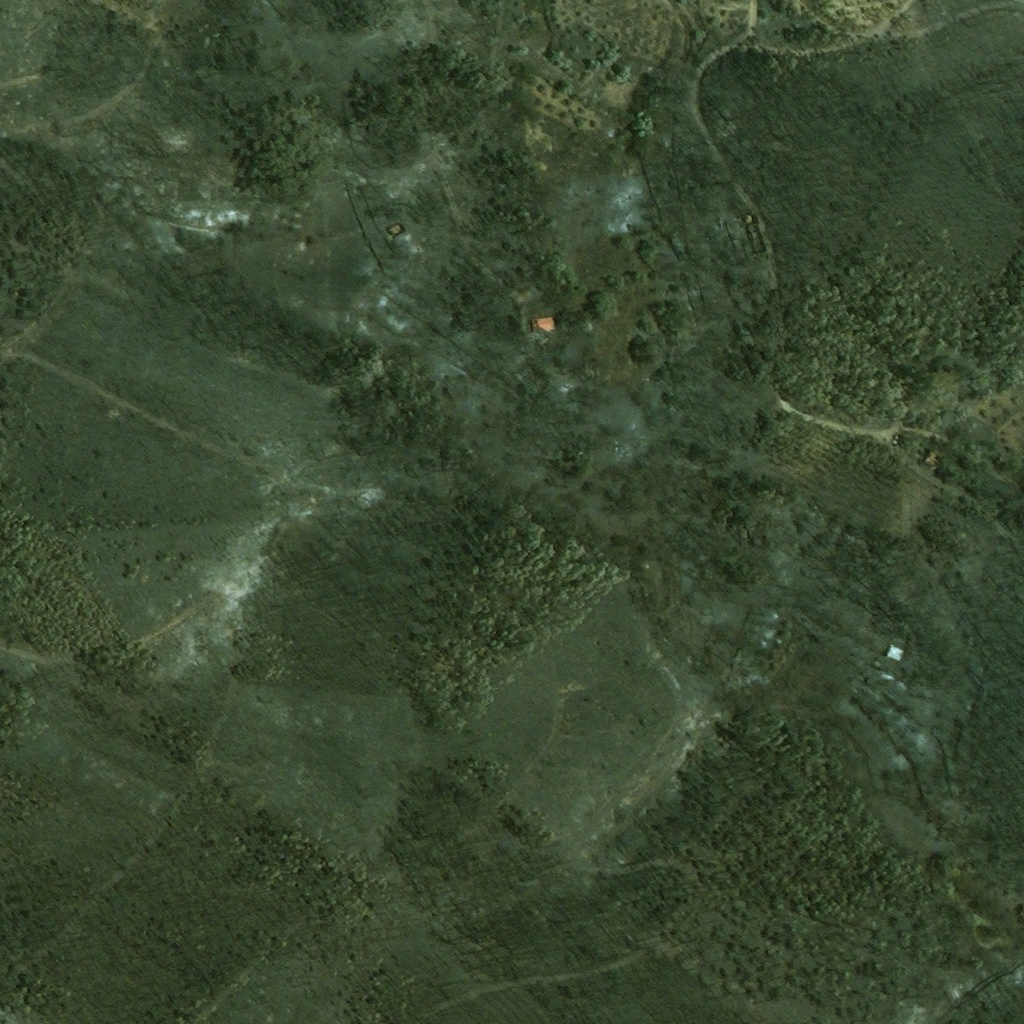0 no-damage: (882, 642, 907, 664), (535, 316, 555, 331)
